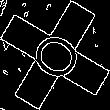O_SE: (22, 23, 88, 87)
